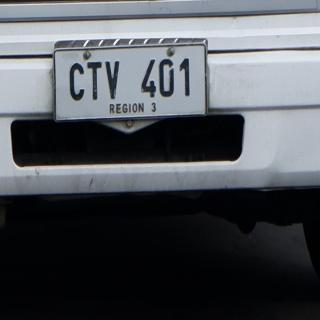license: (55, 40, 209, 123)
